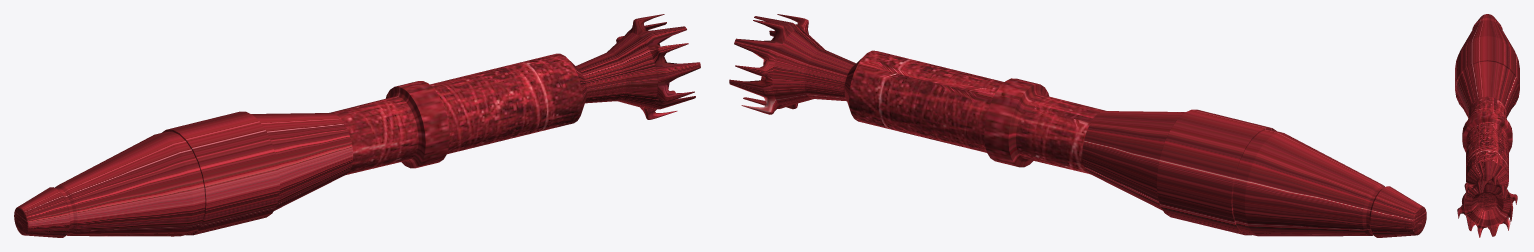
3 views of the same model, side by side, from view 1: azimuth 30°, elevation 25°; view 2: azimuth 150°, elevation 25°; view 3: azimuth 270°, elevation 25° (orthographic). The views are drawn at different scales.
Visible parts, largest first — view 1: Rocket_HP_Rocket_Mat_0; view 2: Rocket_HP_Rocket_Mat_0; view 3: Rocket_HP_Rocket_Mat_0.
Part boxes in pixels (bbox=[...]): Rocket_HP_Rocket_Mat_0: bbox=[14, 14, 700, 237]; Rocket_HP_Rocket_Mat_0: bbox=[729, 14, 1426, 237]; Rocket_HP_Rocket_Mat_0: bbox=[1455, 14, 1519, 237].
Bounding box in the file's own units: 6.22 × 0.8936 × 0.8856.
1 material, 1 textured.
